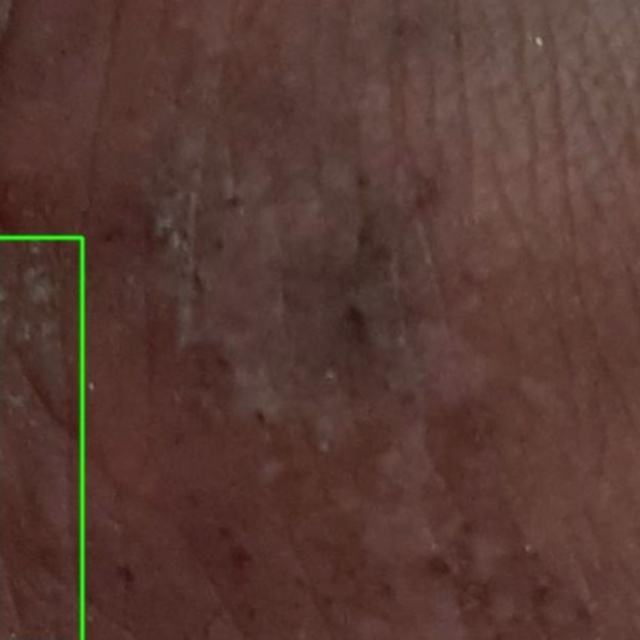Eczema: (0, 237, 82, 639)
